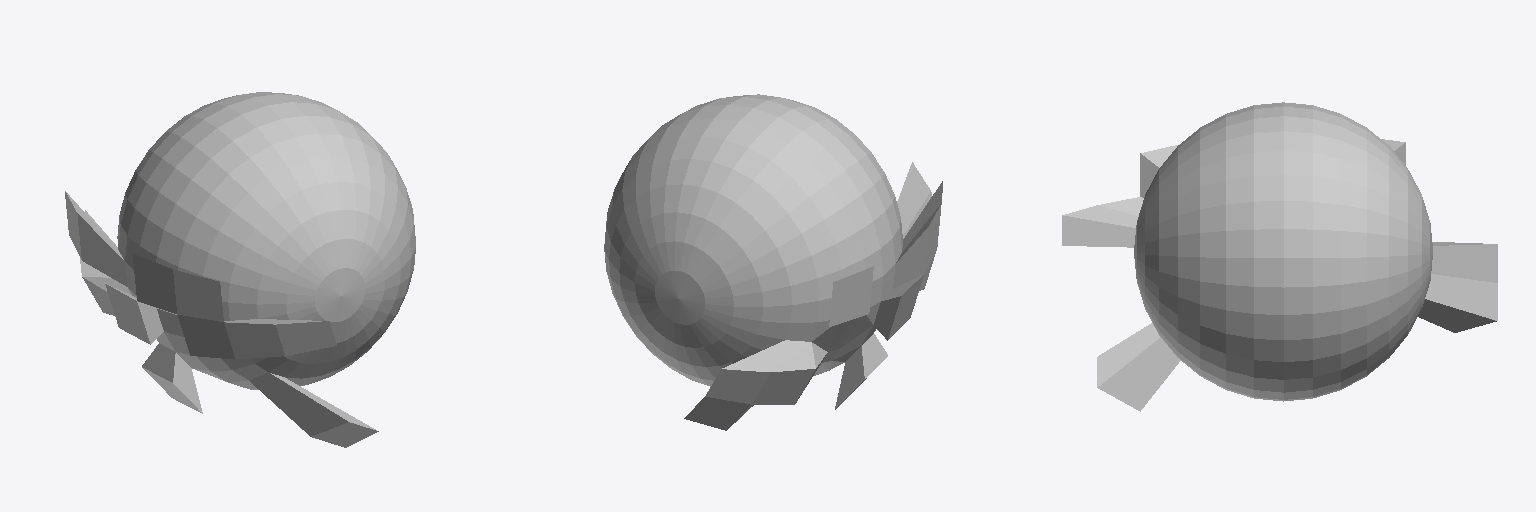
The model's file is ballForFire.obj.
The picture shows the model from 3 angles: view 1: azimuth 30°, elevation 25°; view 2: azimuth 150°, elevation 25°; view 3: azimuth 270°, elevation 25°; orthographic projection.
Parts seen in each view (by area): view 1: Sphere; view 2: Sphere; view 3: Sphere.
Boxes of the visible parts, box(x1,y1,x2,y2) form: Sphere: box(65, 92, 415, 447); Sphere: box(604, 94, 942, 430); Sphere: box(1062, 102, 1497, 411).
Size of the model in its own units: 2.19 by 2.15 by 2.91.